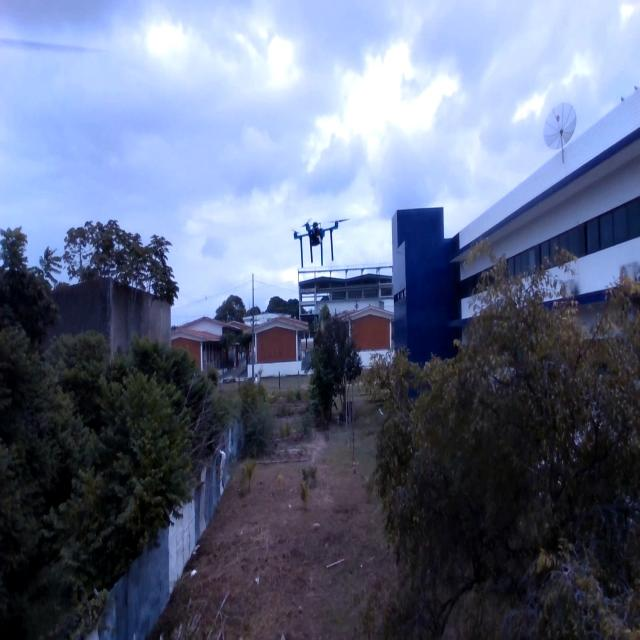-uav-: (284, 202, 354, 278)
